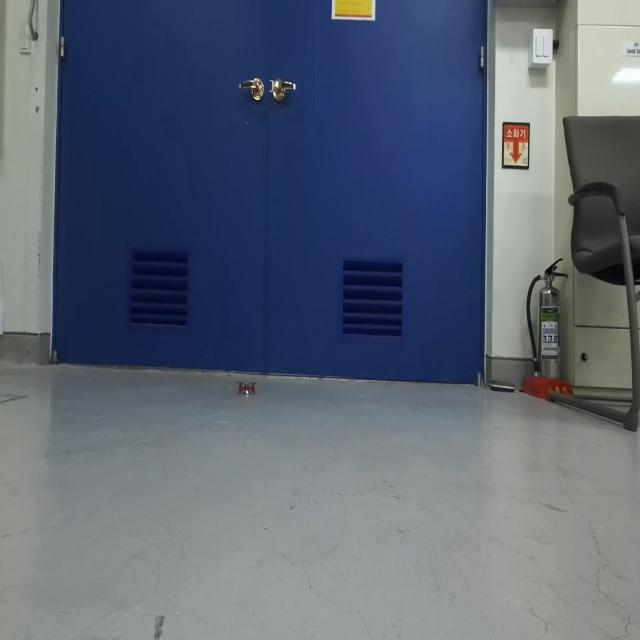crazyflie: (235, 376, 259, 400)
